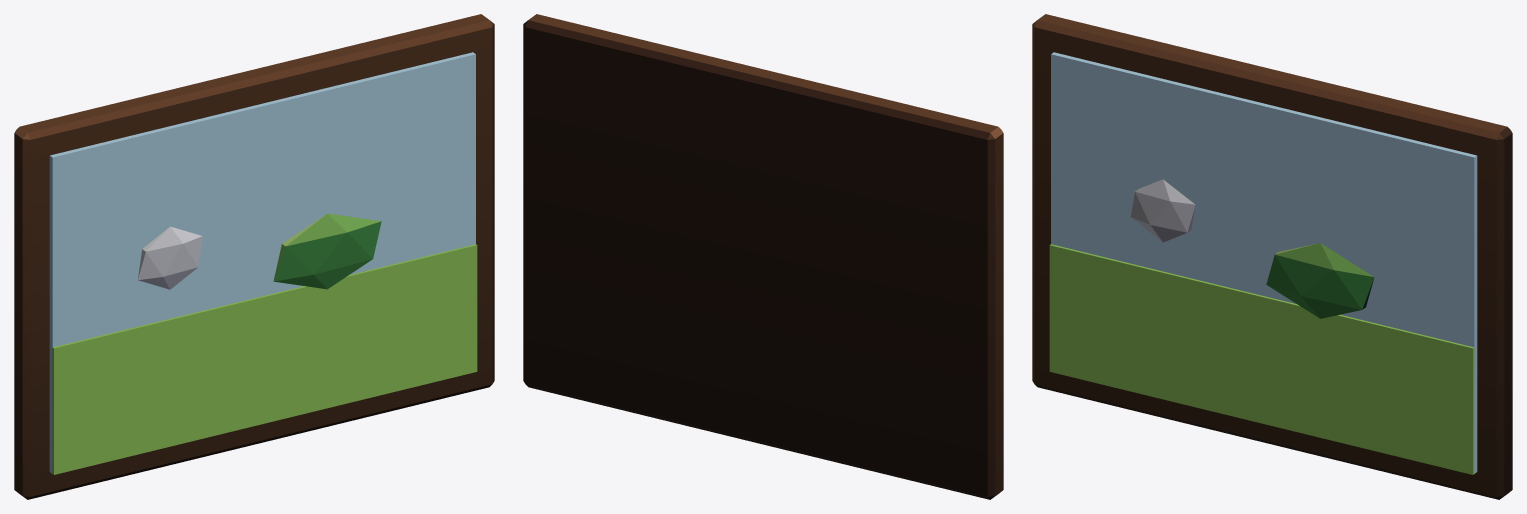
File: poster_view.glb
3 renders of one model, left to right at view 1: azimuth 30°, elevation 25°; view 2: azimuth 150°, elevation 25°; view 3: azimuth 330°, elevation 25°, orthographic.
Visible parts, largest first — view 1: poster_view; view 2: poster_view; view 3: poster_view.
Part boxes in pixels (x1,y1,x2,y2): poster_view: [14, 14, 494, 499]; poster_view: [523, 14, 1003, 499]; poster_view: [1032, 14, 1512, 499].
Size of the model in its own units: 0.78 by 0.58 by 0.0645.
